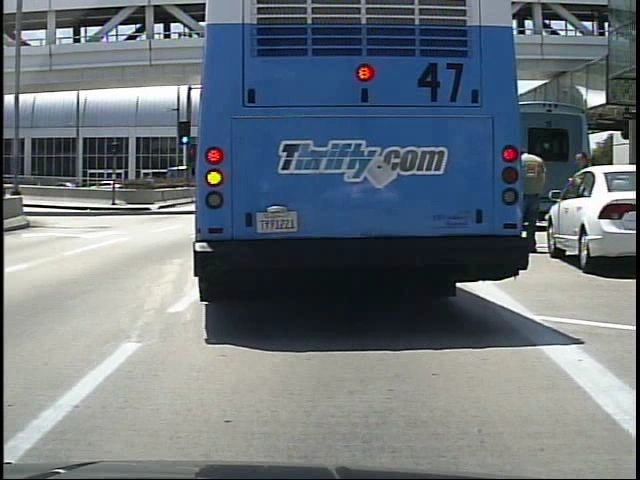person: (519, 144, 549, 256), (569, 148, 596, 254)
